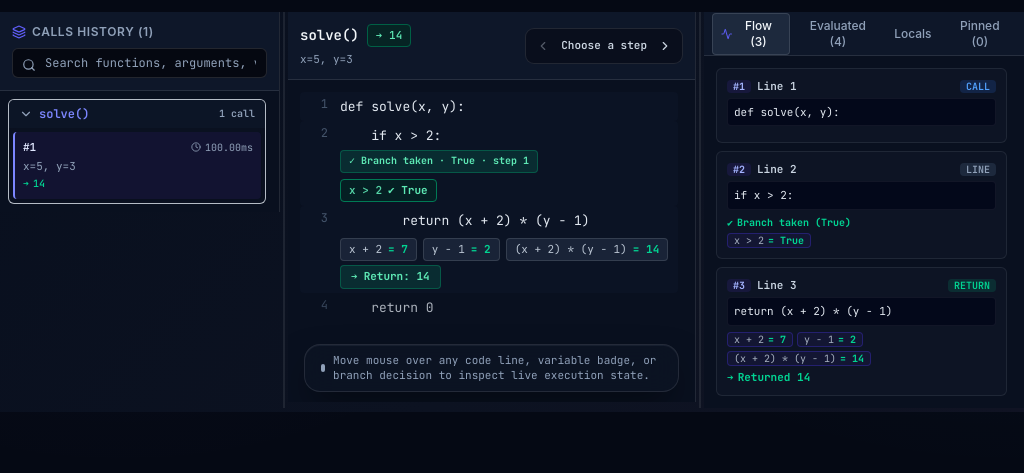
Scenario: BirdseyePage Component › shows the captured condition evaluation on branch focus and selects that step on click
Focus the button with aria-label "line 2: branch taken": (439, 161) [340,150,538,173]
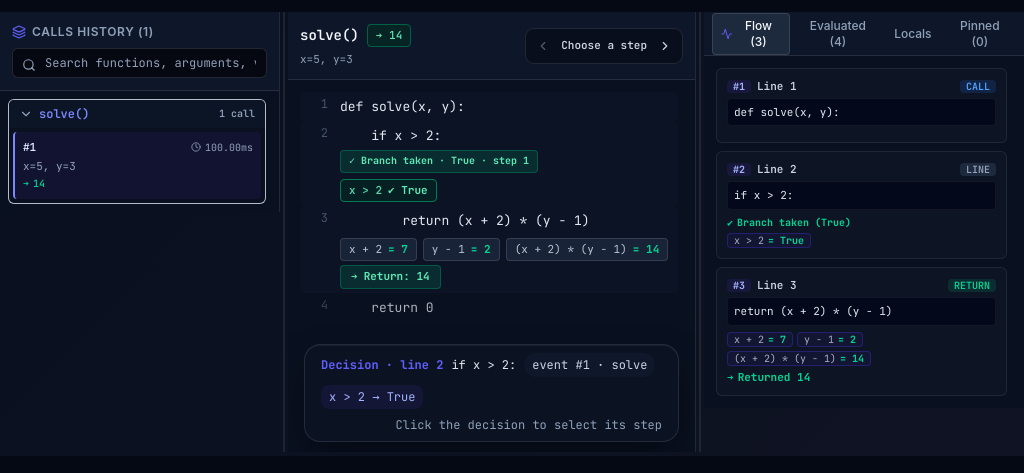
Check: the text "Decision · line 2" is shown, box [321,357,443,373]
Check: the text "x > 2 → True" is shown, box [321,385,424,409]
Click the button with aria-label "line 2: branch taken": (439, 161) [340,150,538,173]
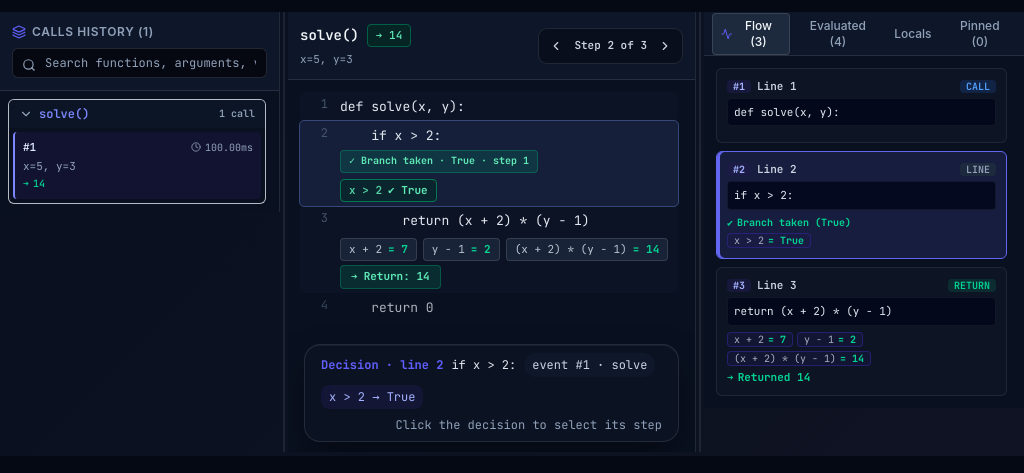
Check: the text "Step 2 of 3" is shown, box [574,39,647,52]
